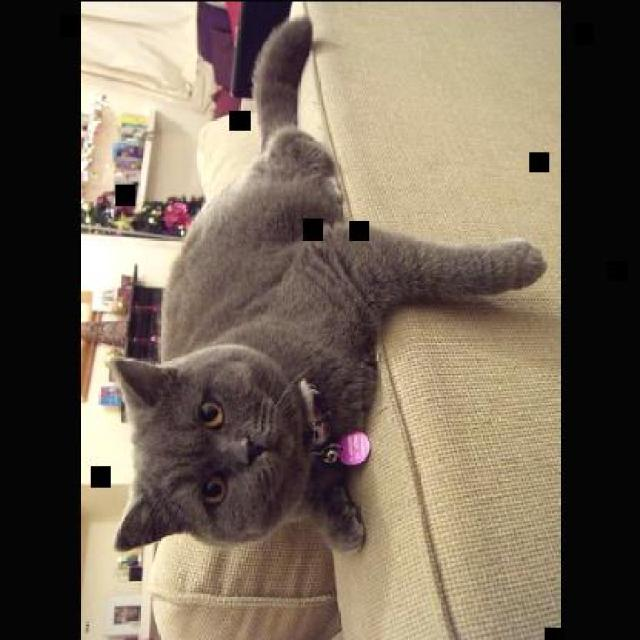unauthorized: (106, 12, 546, 556)
